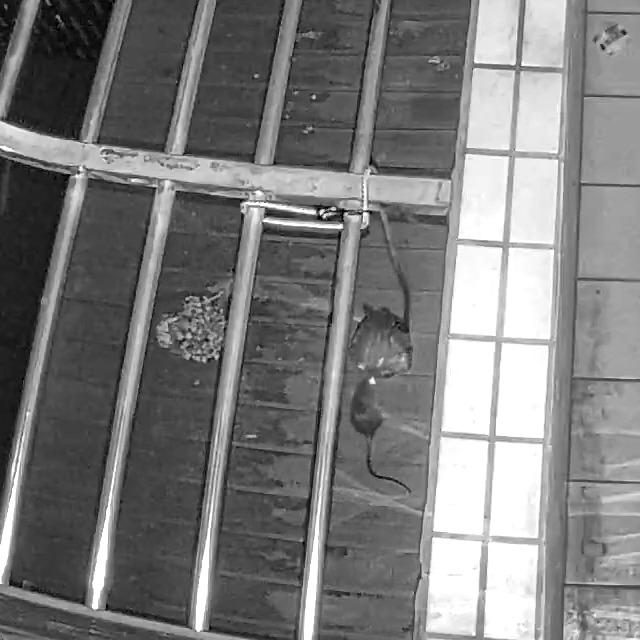rat: (348, 375, 414, 496)
